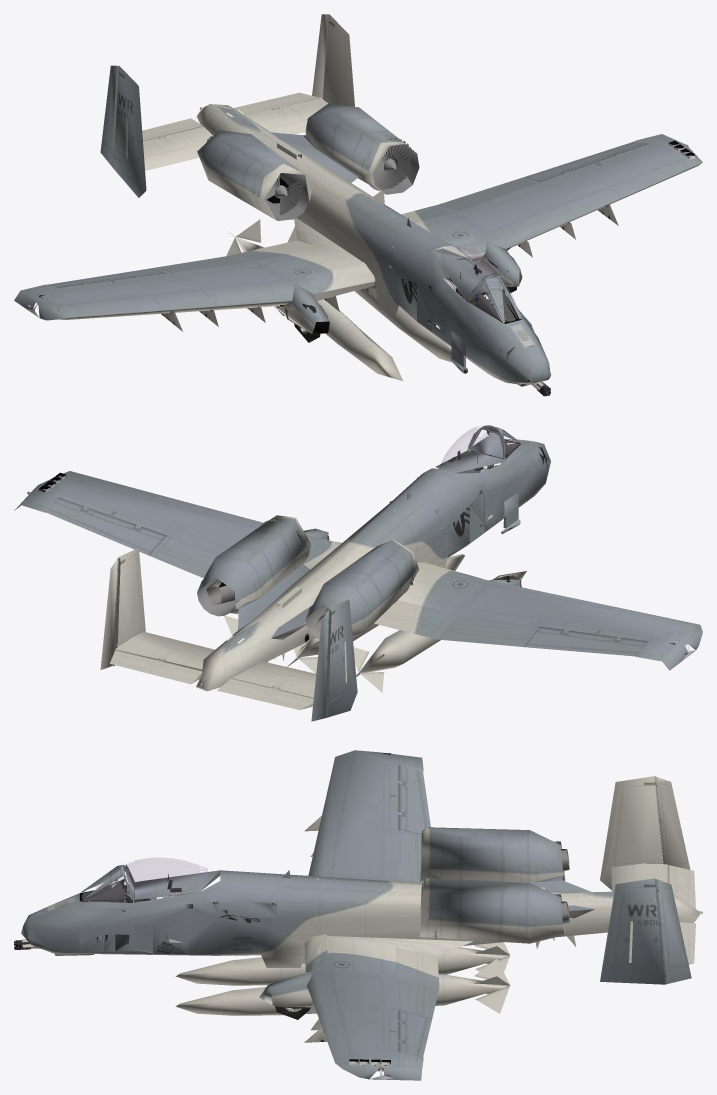
Rendered from fighter_a10.glb.
3 renders of one model, top to bottom at view 1: azimuth 30°, elevation 25°; view 2: azimuth 150°, elevation 25°; view 3: azimuth 270°, elevation 25°, orthographic.
Parts seen in each view (by area): view 1: UC-LeftWHousingSide-details; view 2: UC-LeftWHousingSide-details; view 3: UC-LeftWHousingSide-details.
Part boxes in pixels (box(x1,y1,x2,y2)): UC-LeftWHousingSide-details: box(14, 14, 702, 396); UC-LeftWHousingSide-details: box(14, 425, 702, 721); UC-LeftWHousingSide-details: box(14, 750, 702, 1080).
Size of the model in its own units: 17.9 by 4.05 by 16.26.
Materials: 85 (61 with a texture image).
